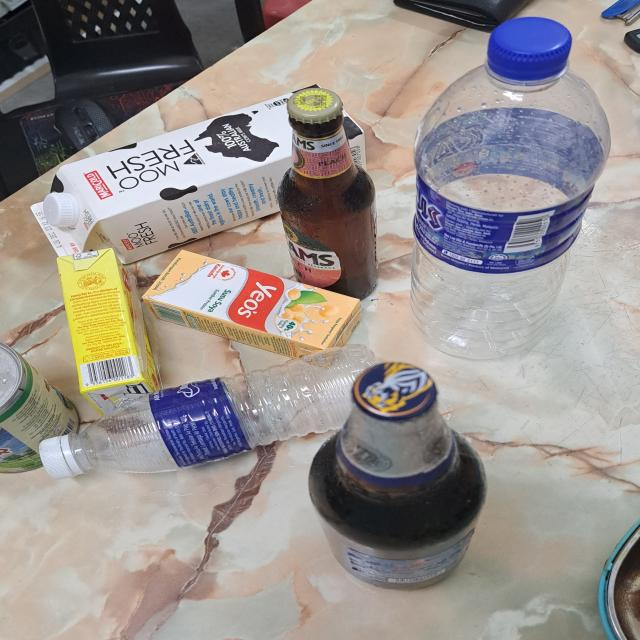can: (0, 343, 81, 473)
drink carton: (30, 84, 365, 264), (140, 249, 363, 367), (55, 247, 160, 415)
glass bottle: (310, 361, 486, 590), (280, 87, 378, 299)
plastic bottle: (415, 60, 609, 358), (76, 344, 378, 472)
plastic bottle cap: (486, 16, 573, 80), (37, 436, 78, 481), (43, 193, 74, 227)
